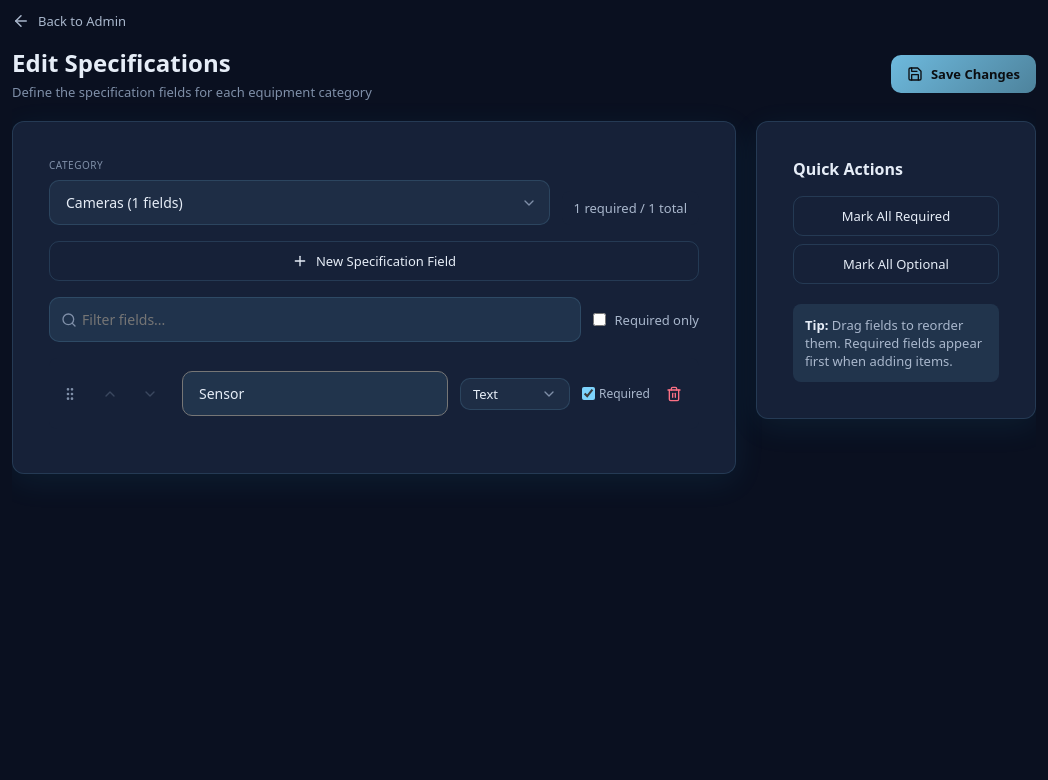
it: SpecsPage › rejects duplicate field names within a category
Click the button "New Specification Field". click: (374, 261)
box: [49,241,699,281]
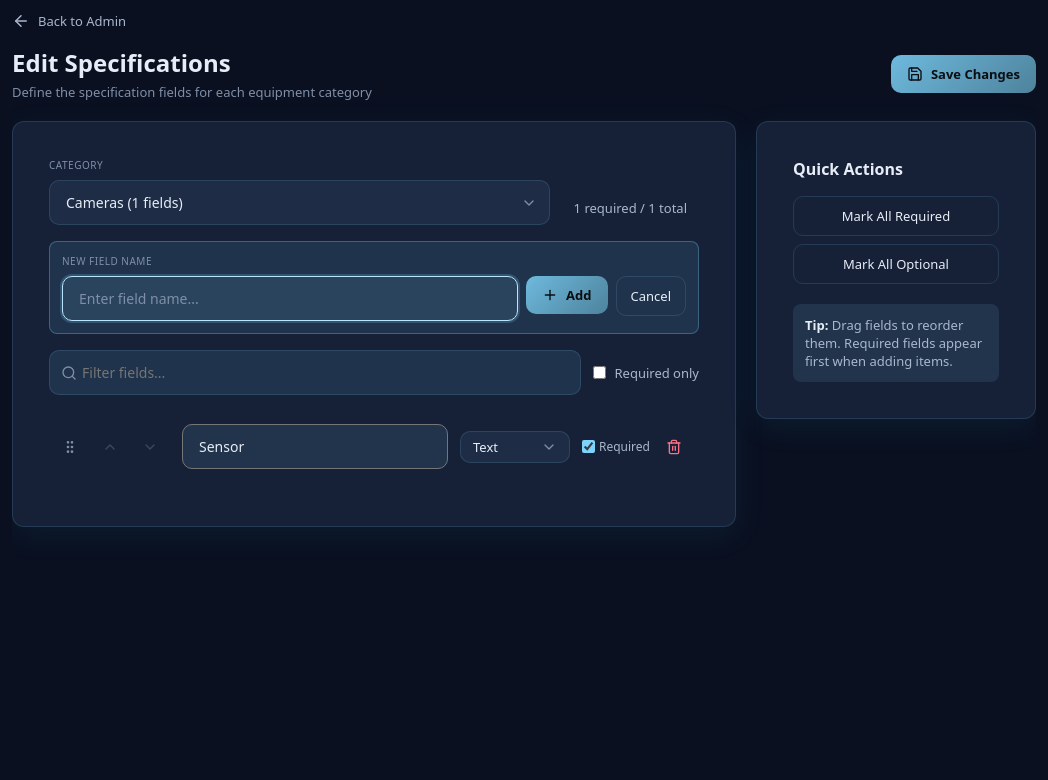
Type "Sensor" into the field with placeholder "Enter field name...". click: (290, 298)
box: [62,276,518,321]
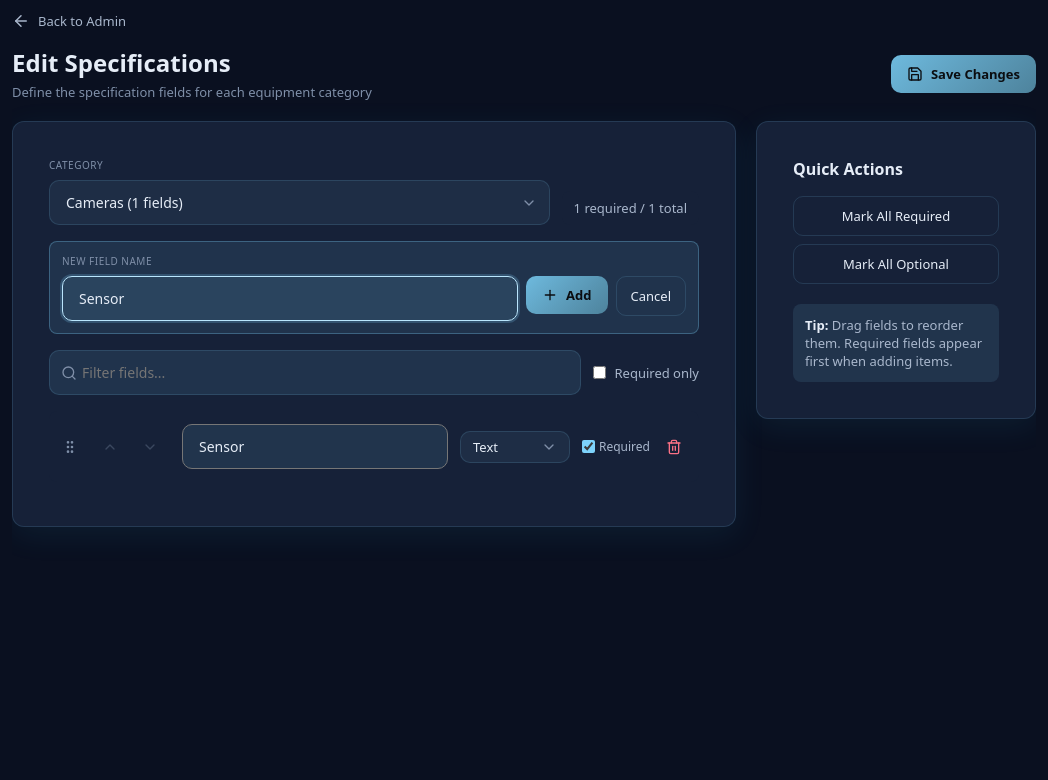
Click the button "Add". click: (567, 295)
box: [526,276,608,314]
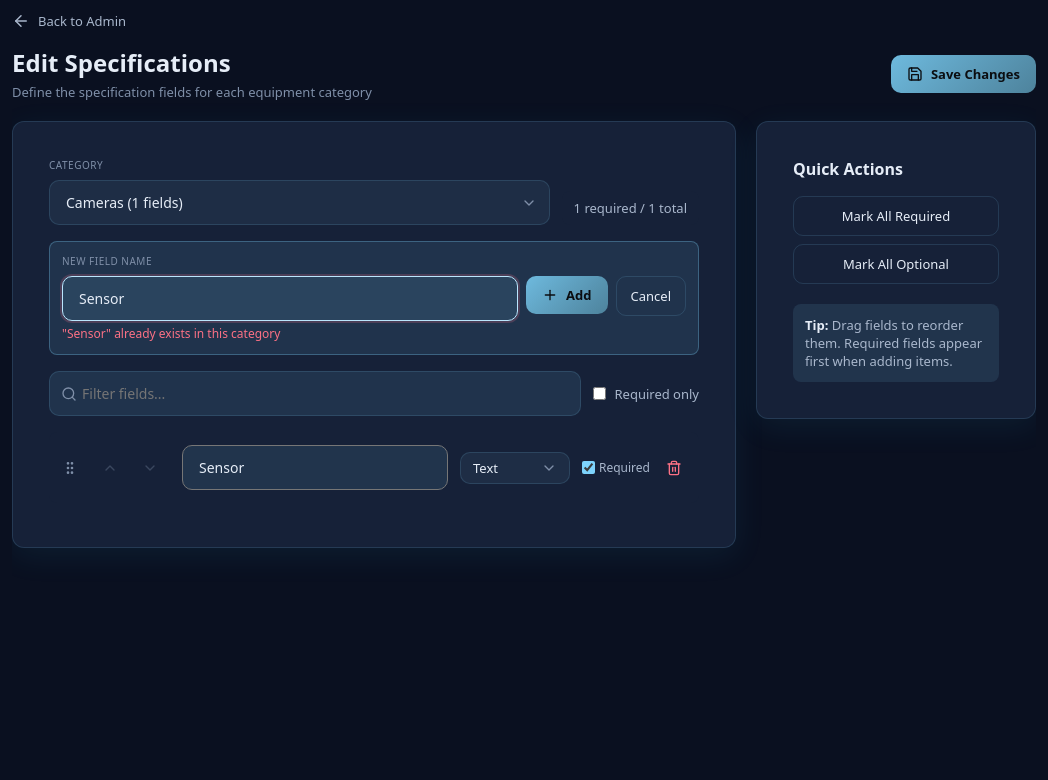
Now the text "\"Sensor\" already exists in this category" is shown, box [62,325,280,342]
